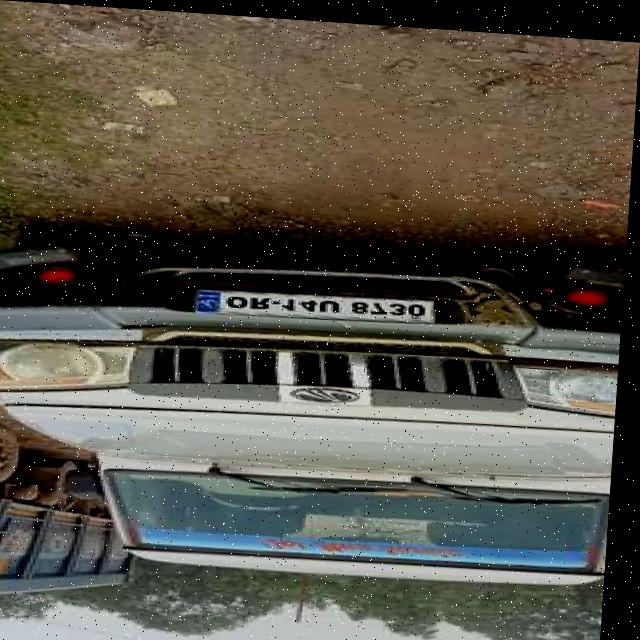plate: (197, 280, 438, 321)
